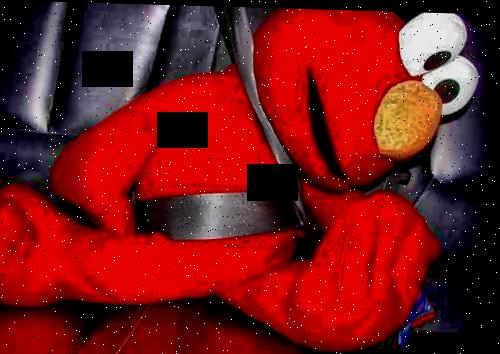seatbelt: (134, 6, 345, 254)
